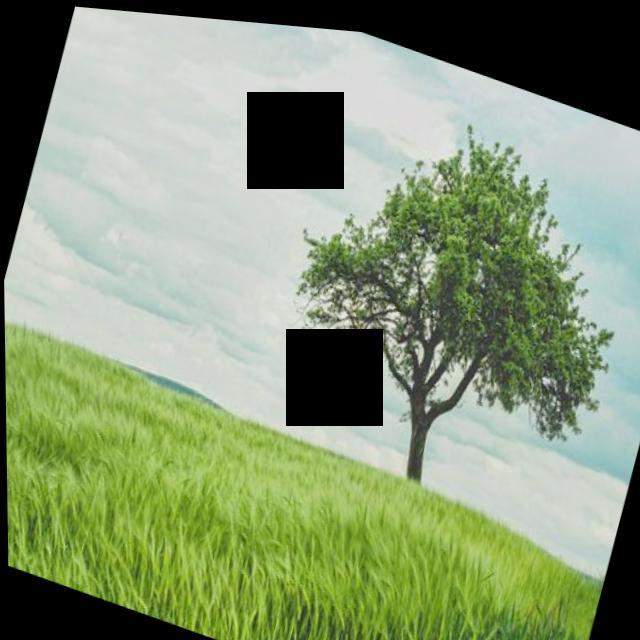Tree: (245, 65, 640, 536)
